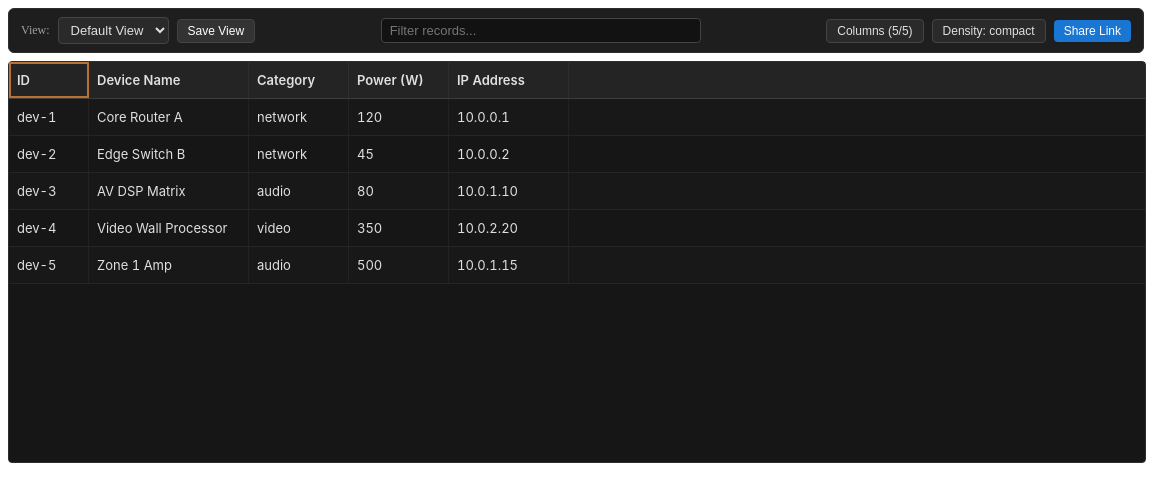
Test case: GridViewManager & Views Engine (GR.W2 / B147) › GridViewManager Component Integration › toggles column visibility and updates visible columns in DataGrid
This screenshot has width=1152, height=480.
Expected: the number of column headings is 5, 9,62 -> 89,98; 89,62 -> 249,98; 249,62 -> 349,98; 349,62 -> 449,98; 449,62 -> 569,98
# Open column visibility menu
What coordinates should you click on to do the following:
click the button with test id "grid-view-columns-btn"
I would click on:
 (875, 30)
Its box is 826,18 -> 924,42.
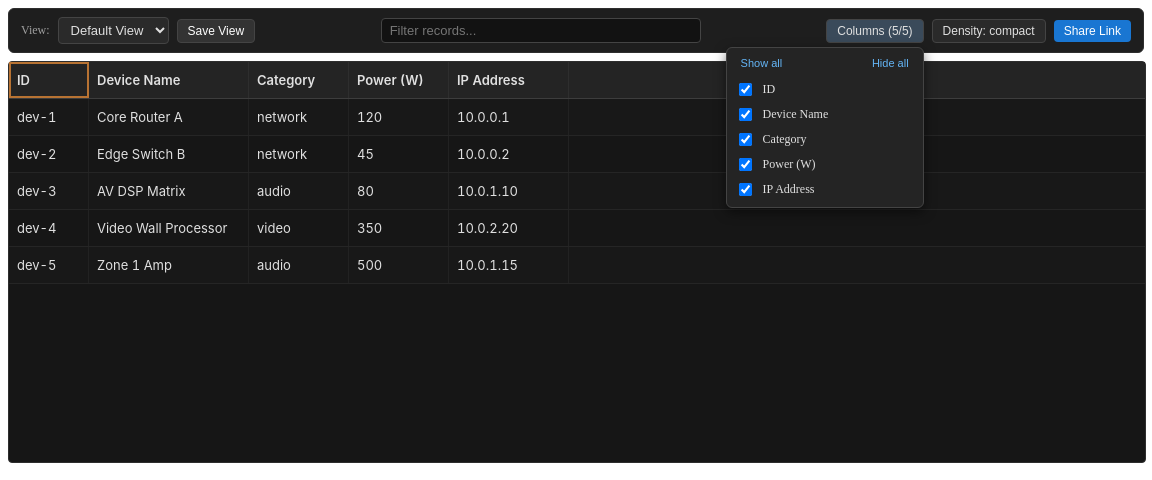
# Uncheck Power (W) (watts)
What coordinates should you click on to do the following:
click the checkbox with test id "grid-col-toggle-watts"
I would click on:
 (745, 164)
Its box is 739,158 -> 752,170.
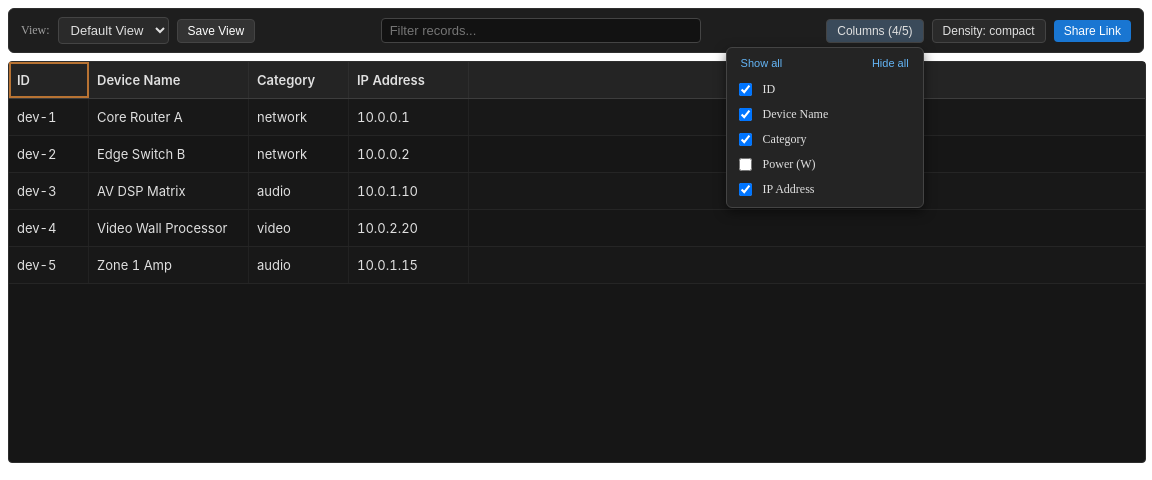
Expected: the number of column headings is 4, 9,62 -> 89,98; 89,62 -> 249,98; 249,62 -> 349,98; 349,62 -> 469,98
